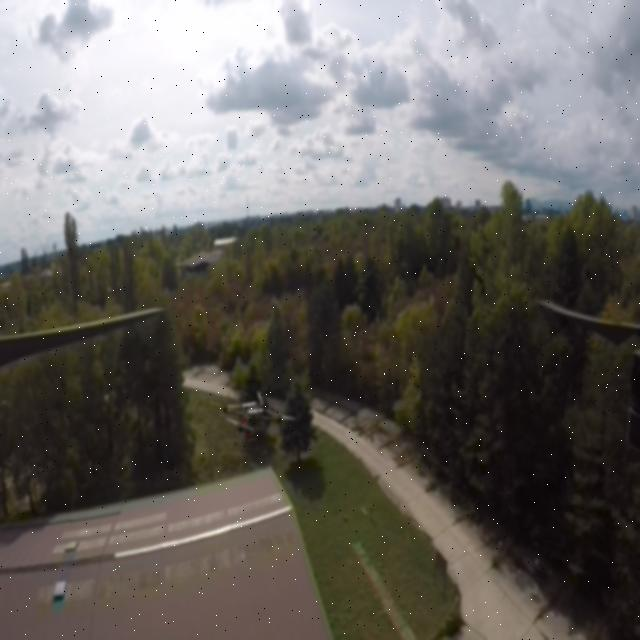UAV: (212, 389, 296, 463)
